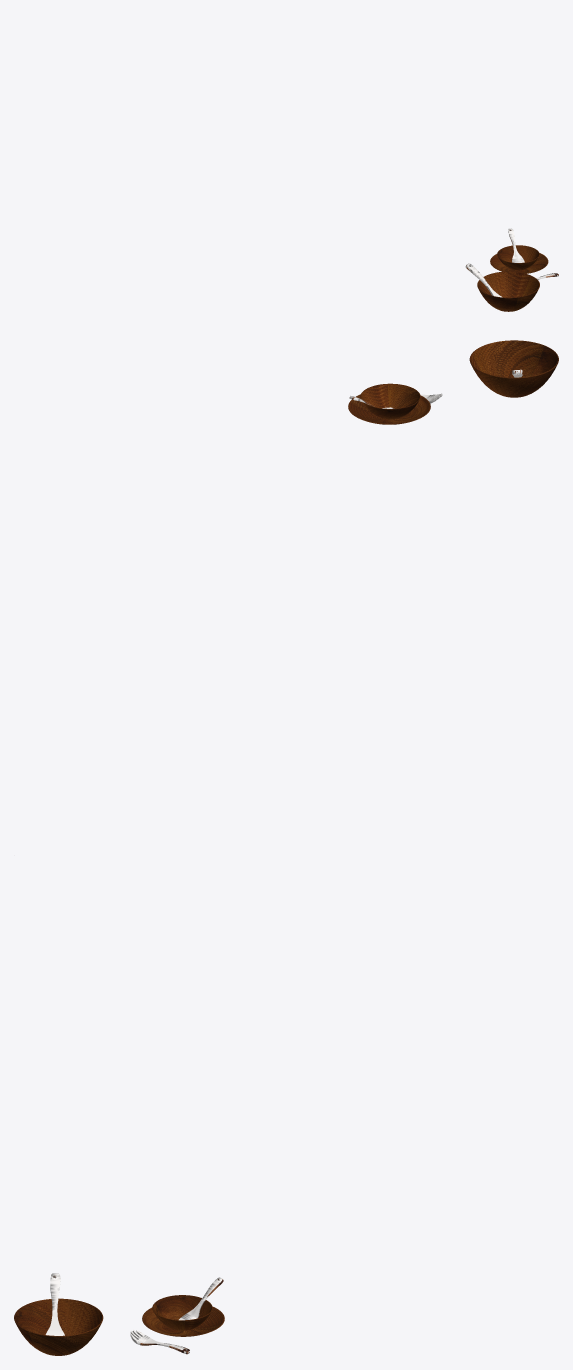
File: wooden-salad-bowl-and-cutlery.glb
The picture shows the model from 3 angles, top to bottom: view 1: azimuth 30°, elevation 25°; view 2: azimuth 150°, elevation 25°; view 3: azimuth 330°, elevation 25°; orthographic projection. The views are drawn at different scales.
Visible parts, largest first — view 1: Groupe#54 (×2), Groupe#1; view 2: Groupe#54 (×2), Groupe#1; view 3: Groupe#54 (×2), Groupe#1, Grouper 8#8.
Part boxes in pixels (bbox=[...]): Groupe#54 (×2): bbox=[477, 245, 539, 311]; Groupe#1: bbox=[490, 253, 548, 273]; Groupe#54 (×2): bbox=[360, 340, 558, 419]; Groupe#1: bbox=[348, 394, 430, 424]; Groupe#54 (×2): bbox=[14, 1295, 212, 1355]; Groupe#1: bbox=[142, 1306, 224, 1336]; Grouper 8#8: bbox=[45, 1273, 64, 1335].
Bounding box in the file's own units: 0.542 × 0.1258 × 2.83.
4 materials, 3 textured.
